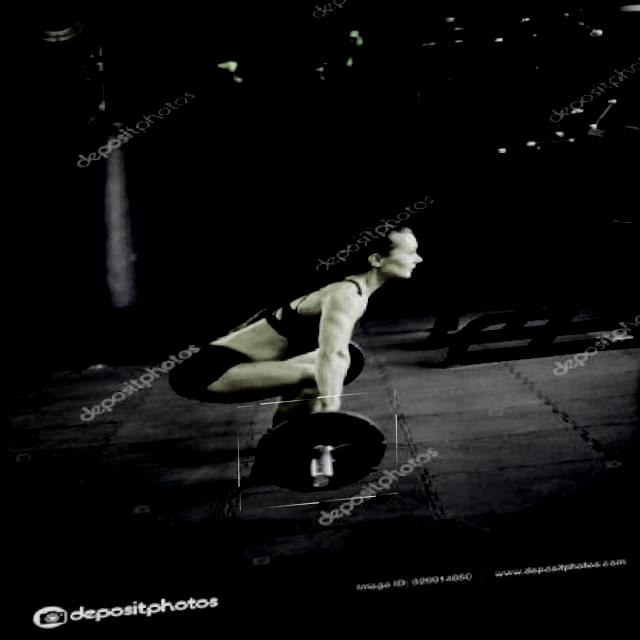barbell: (237, 399, 397, 515)
